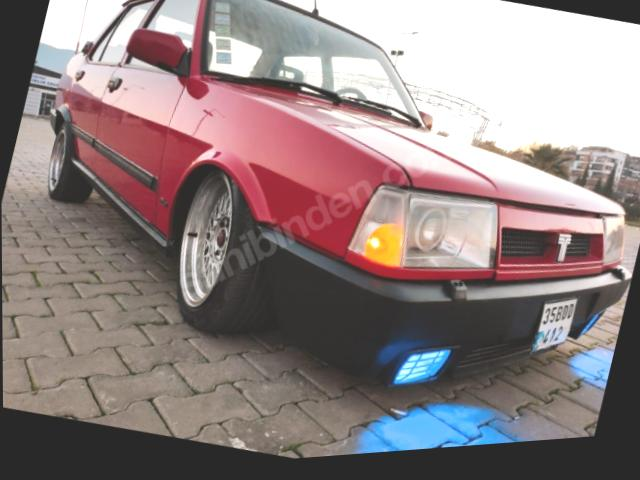plaka: (530, 298, 576, 354)
